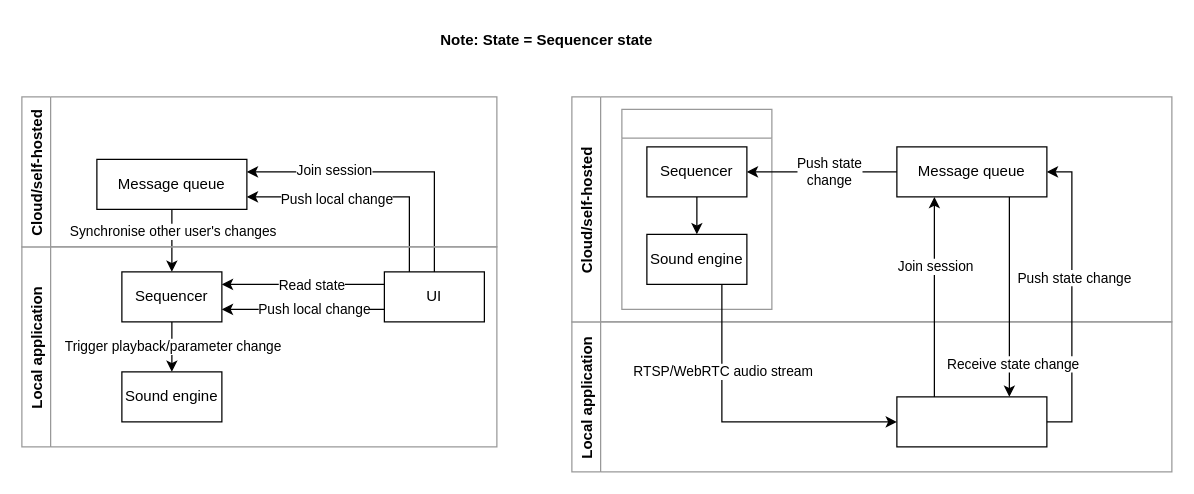
The diagram is 1194 pixels wide and 494 high, and some of its shapes have lost their labels. The centre of each missing label's shape, as x and y in pixels:
1-N workers: (x=696, y=208)
Browser-based UI: (x=971, y=421)
